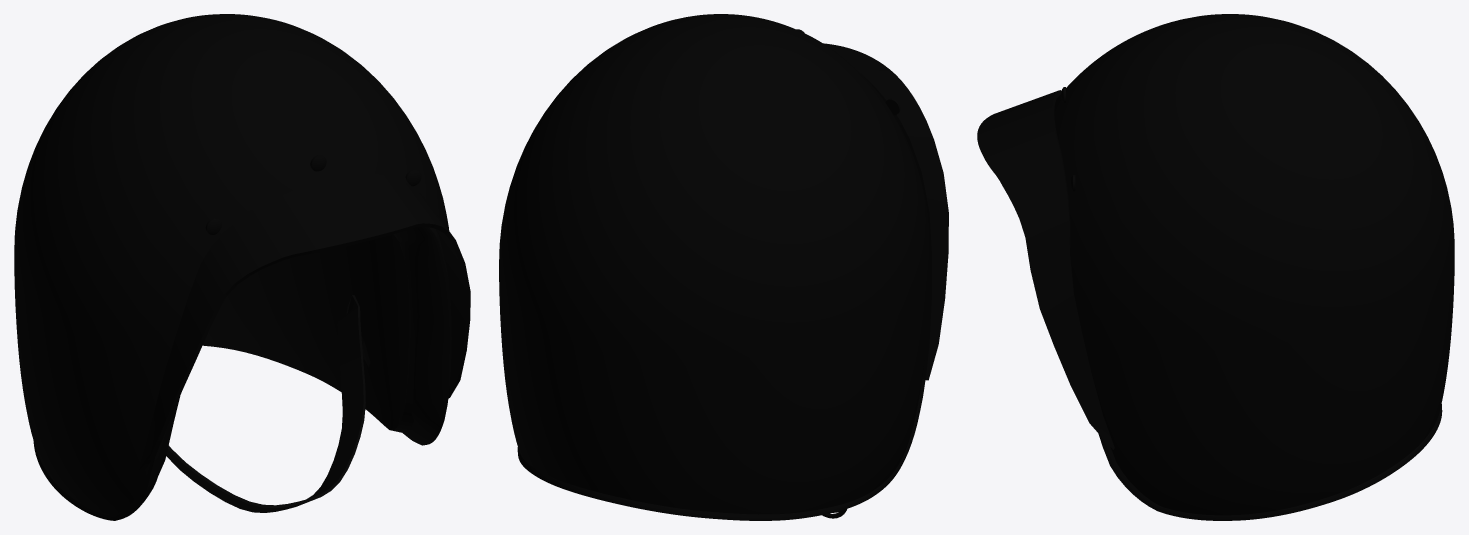
File: _test_helmet_1.glb
The picture shows the model from 3 angles, left to right: view 1: azimuth 30°, elevation 25°; view 2: azimuth 150°, elevation 25°; view 3: azimuth 270°, elevation 25°; orthographic projection. The views are drawn at different scales.
Parts seen in each view (by area): view 1: body; view 2: body; view 3: body.
Boxes of the visible parts, <box> form: body: <box>14,14,470,520</box>; body: <box>499,14,948,520</box>; body: <box>977,14,1454,520</box>.
Bounding box in the file's own units: 0.268 × 0.3139 × 0.3102.
6 materials, 6 textured.
